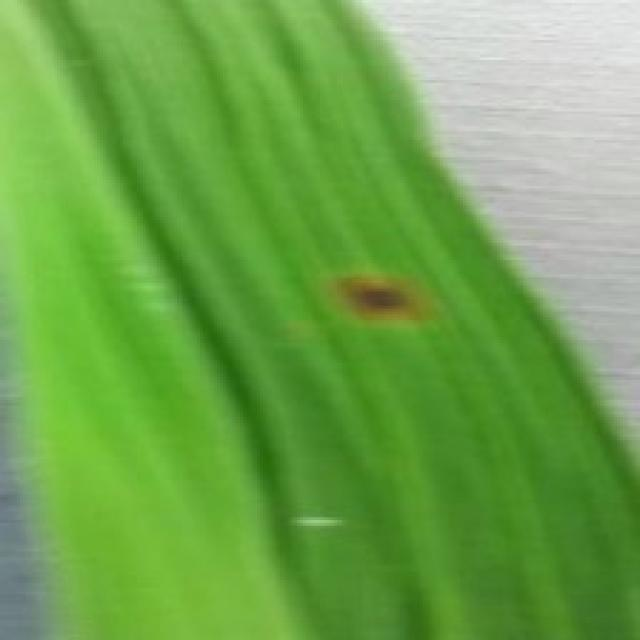Unhealthy: (330, 266, 427, 340)
